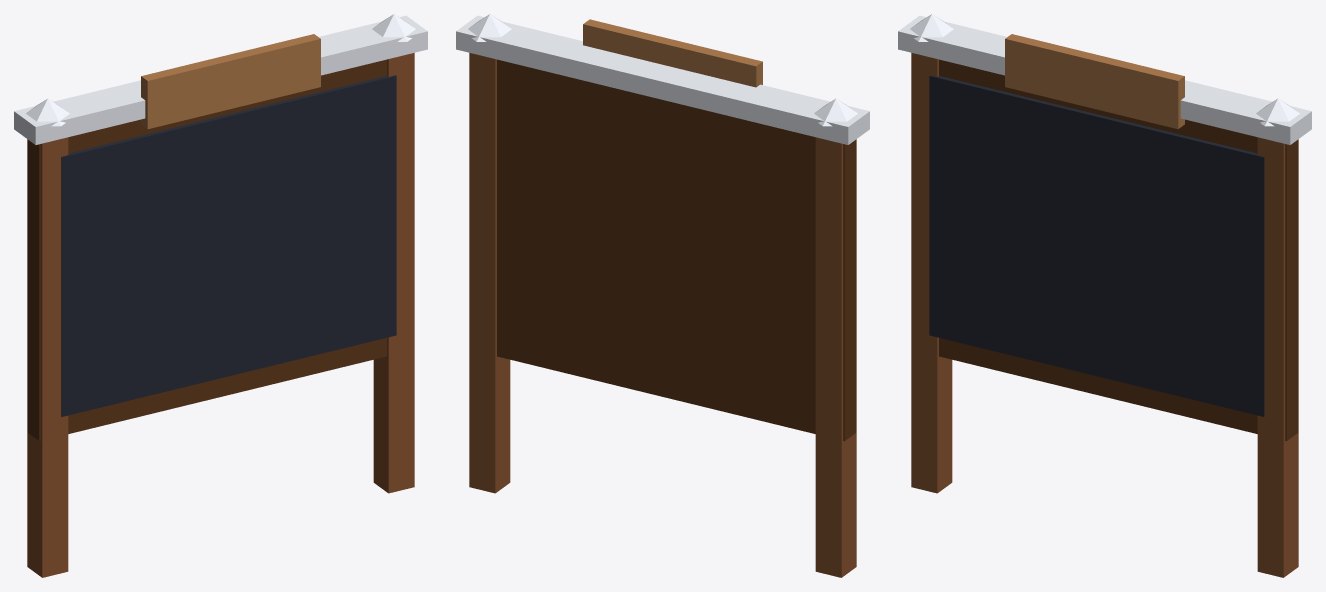
File: Leaderboard.fbx
3 views of the same model, side by side, from view 1: azimuth 30°, elevation 25°; view 2: azimuth 150°, elevation 25°; view 3: azimuth 330°, elevation 25° (orthographic).
Parts seen in each view (by area): view 1: Leaderboard_Iron, Leaderboard_Wood, Leaderboard_WoodDark, Leaderboard_WoodLight, Leaderboard_Snow; view 2: Leaderboard_WoodDark, Leaderboard_Wood, Leaderboard_Snow, Leaderboard_WoodLight; view 3: Leaderboard_Iron, Leaderboard_Wood, Leaderboard_WoodDark, Leaderboard_WoodLight, Leaderboard_Snow.
Boxes of the visible parts, x1,y1,x2,y2 form: Leaderboard_Iron: [61, 75, 396, 416]; Leaderboard_Wood: [27, 53, 414, 577]; Leaderboard_WoodDark: [27, 59, 386, 441]; Leaderboard_WoodLight: [141, 34, 320, 129]; Leaderboard_Snow: [14, 14, 427, 144]; Leaderboard_WoodDark: [497, 59, 856, 441]; Leaderboard_Wood: [469, 53, 856, 577]; Leaderboard_Snow: [456, 14, 869, 144]; Leaderboard_WoodLight: [583, 19, 762, 87]; Leaderboard_Iron: [929, 75, 1264, 416]; Leaderboard_Wood: [911, 53, 1298, 577]; Leaderboard_WoodDark: [939, 59, 1298, 441]; Leaderboard_WoodLight: [1005, 34, 1184, 129]; Leaderboard_Snow: [898, 14, 1311, 144].
Bounding box in the file's own units: 1360 × 1580 × 160.
